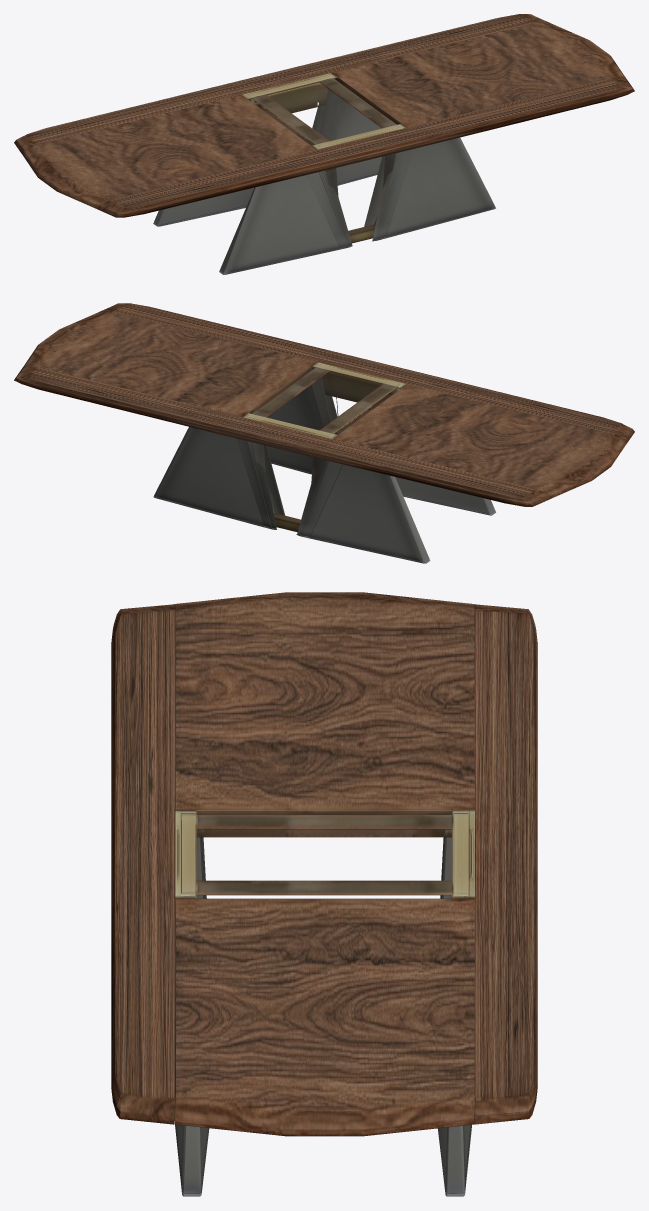
File: command-table.glb
3 views of the same model, one above another, from view 1: azimuth 30°, elevation 25°; view 2: azimuth 150°, elevation 25°; view 3: azimuth 270°, elevation 25° (orthographic). The views are drawn at different scales.
Visible parts, largest first — view 1: f26b2eca_a1c8_474e_ac22_0ca1c1c6609c; view 2: f26b2eca_a1c8_474e_ac22_0ca1c1c6609c; view 3: f26b2eca_a1c8_474e_ac22_0ca1c1c6609c.
Boxes of the visible parts, x1,y1,x2,y2 form: f26b2eca_a1c8_474e_ac22_0ca1c1c6609c: (14,14,634,274); f26b2eca_a1c8_474e_ac22_0ca1c1c6609c: (14,303,634,563); f26b2eca_a1c8_474e_ac22_0ca1c1c6609c: (111,592,537,1196).
Bounding box in the file's own units: 4.2 × 0.76 × 1.4.
1 material, 1 textured.
